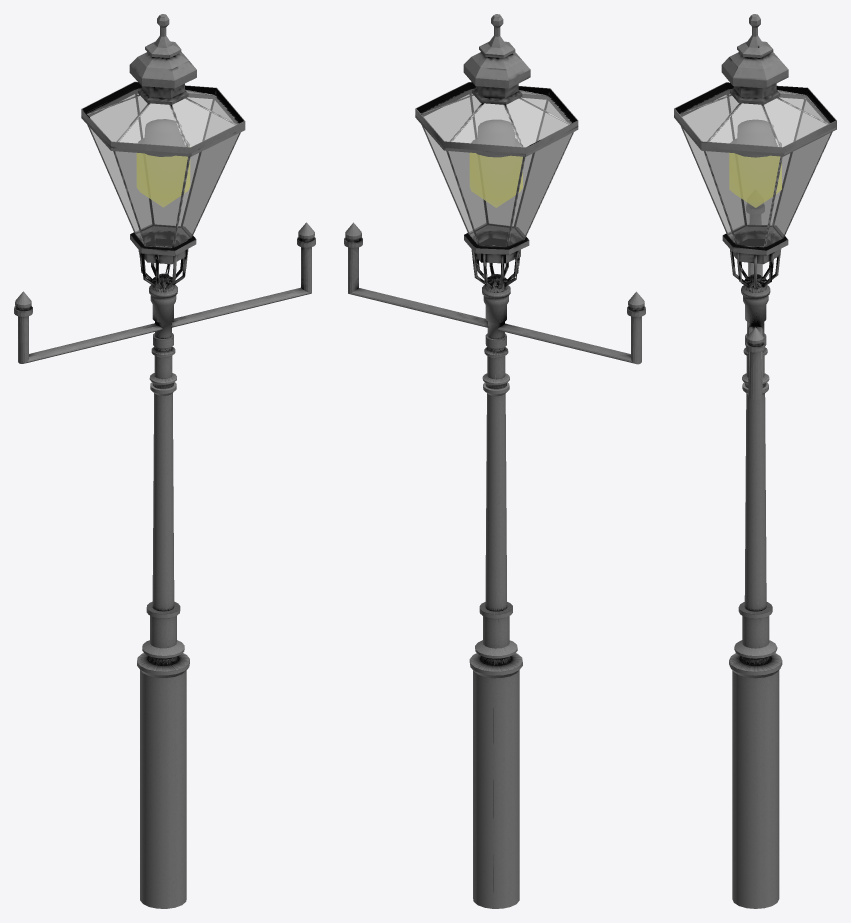
3 views of the same model, side by side, from view 1: azimuth 30°, elevation 25°; view 2: azimuth 150°, elevation 25°; view 3: azimuth 270°, elevation 25° (orthographic).
Parts seen in each view (by area): view 1: Cylinder.001, Sphere; view 2: Cylinder.001, Sphere; view 3: Cylinder.001, Sphere.
Boxes of the visible parts, x1=… form: Cylinder.001: x1=14, y1=14, x2=315, y2=908; Sphere: x1=137, y1=119, x2=189, y2=207; Cylinder.001: x1=344, y1=14, x2=645, y2=908; Sphere: x1=470, y1=120, x2=522, y2=207; Cylinder.001: x1=674, y1=14, x2=836, y2=908; Sphere: x1=729, y1=120, x2=781, y2=207.
Bounding box in the file's own units: 212 × 597 × 99.75.
4 materials, 1 textured.
